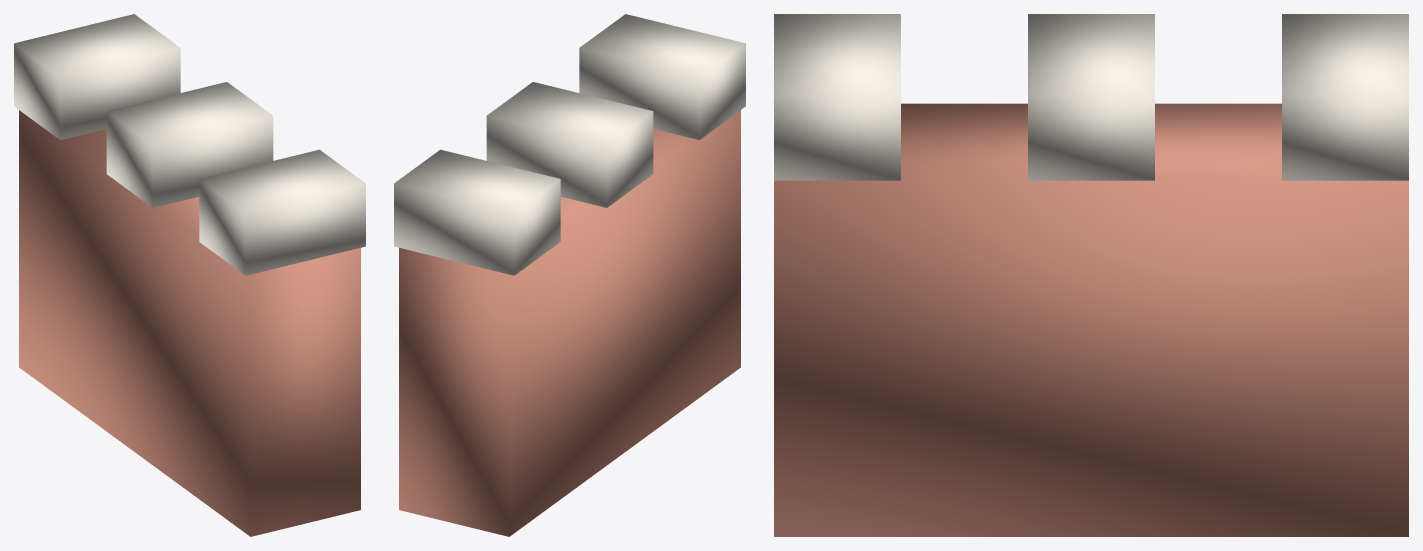
Rendered from ancient_palace_wall.glb.
The picture shows the model from 3 angles, left to right: view 1: azimuth 30°, elevation 25°; view 2: azimuth 150°, elevation 25°; view 3: azimuth 270°, elevation 25°; orthographic projection. The views are drawn at different scales.
Visible parts, largest first — view 1: wall_body, cren1, cren2, cren3; view 2: wall_body, cren3, cren2, cren1; view 3: wall_body, cren1, cren2, cren3.
Boxes of the visible parts, <box> form: wall_body: <box>19,110,360,536</box>; cren1: <box>199,149,365,275</box>; cren2: <box>106,82,273,207</box>; cren3: <box>14,14,180,139</box>; wall_body: <box>399,110,740,536</box>; cren3: <box>394,149,560,275</box>; cren2: <box>486,82,653,207</box>; cren1: <box>579,14,745,139</box>; wall_body: <box>774,103,1408,536</box>; cren1: <box>774,14,900,180</box>; cren2: <box>1028,14,1154,180</box>; cren3: <box>1282,14,1408,180</box>.
Bounding box in the file's own units: 0.24 × 0.62 × 0.8.
